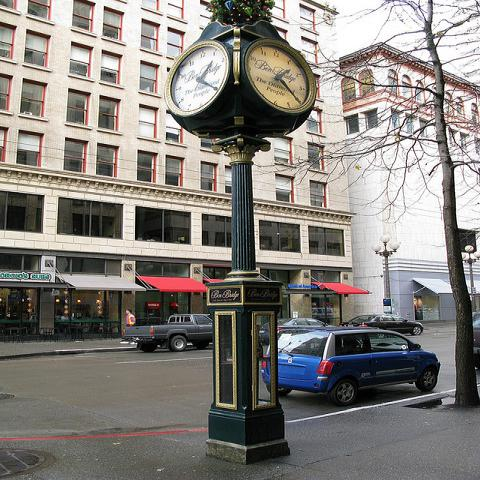car: (260, 327, 441, 407), (259, 317, 337, 344), (338, 314, 423, 336), (470, 312, 479, 368), (312, 308, 334, 317)
truck: (122, 314, 214, 353)
